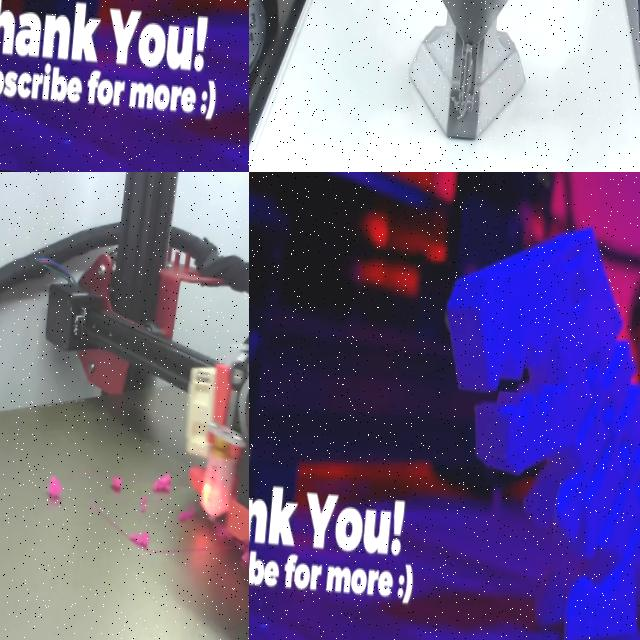spaghetti: (90, 500, 204, 553), (213, 521, 235, 540), (46, 476, 63, 500), (235, 539, 249, 563), (153, 473, 171, 491), (178, 508, 194, 521), (111, 477, 122, 491), (141, 498, 147, 510)
